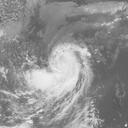cyclone: (39, 42, 91, 97)
